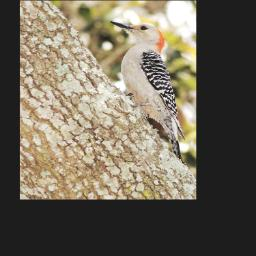Woodpecker: (107, 14, 192, 169)
